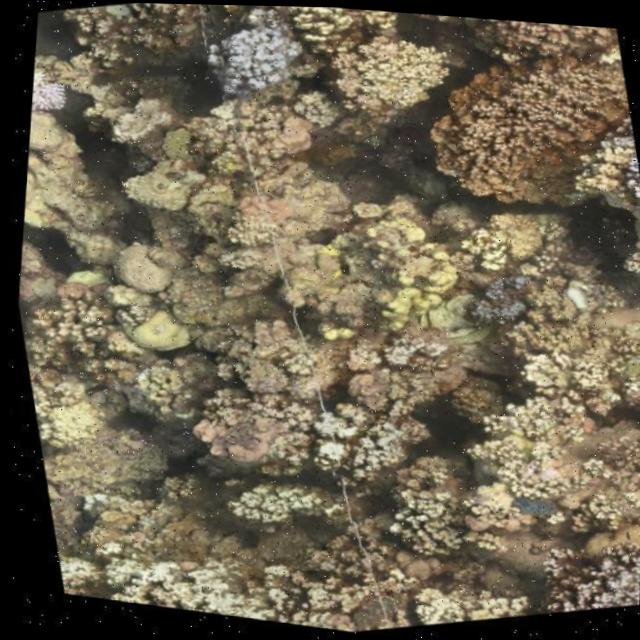Bleached Coral: (181, 3, 316, 120), (528, 510, 640, 622), (24, 63, 78, 135)
